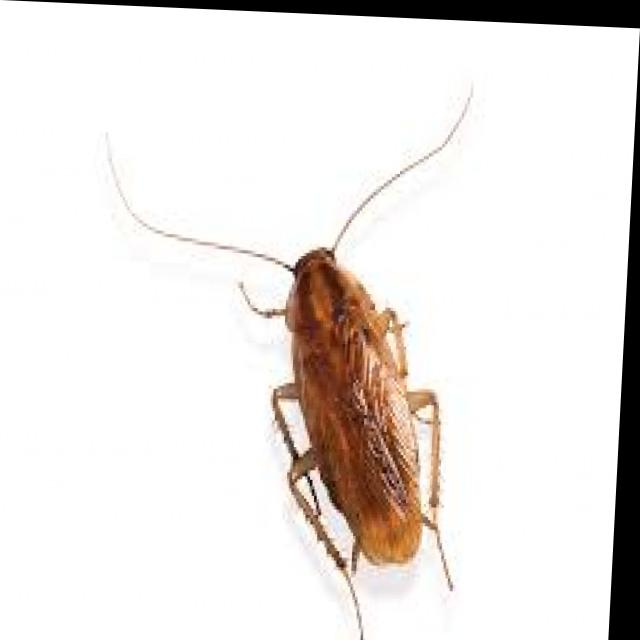Cockroach: (78, 65, 489, 640)
